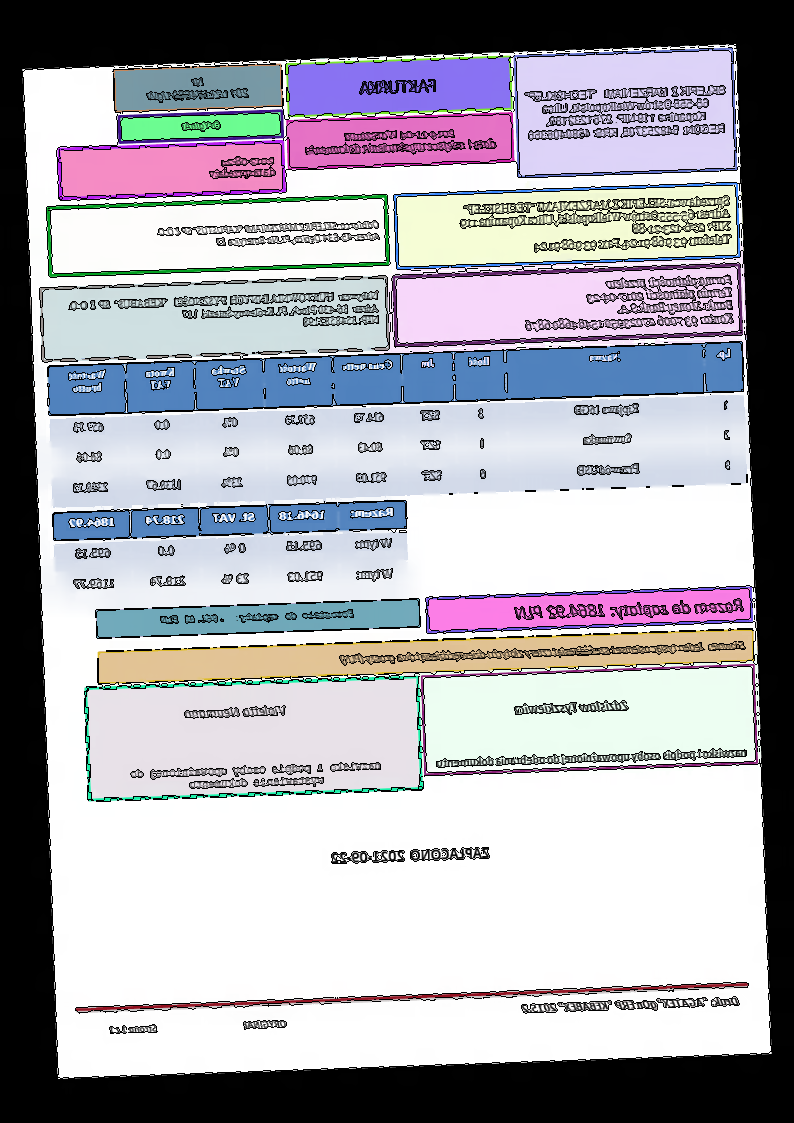Table: (47, 339, 750, 509), (52, 499, 412, 604)
TextBox: (456, 190, 735, 258), (66, 288, 383, 339), (520, 270, 737, 335), (524, 81, 731, 144), (338, 637, 749, 668), (125, 757, 385, 794), (433, 743, 752, 770), (156, 215, 383, 251), (513, 595, 748, 626), (302, 124, 499, 160), (518, 991, 743, 1018), (105, 1015, 292, 1037), (158, 606, 359, 626), (327, 843, 493, 867), (142, 72, 253, 106), (512, 694, 631, 718), (207, 152, 280, 184), (184, 701, 290, 722), (356, 76, 439, 99), (178, 118, 224, 135)
